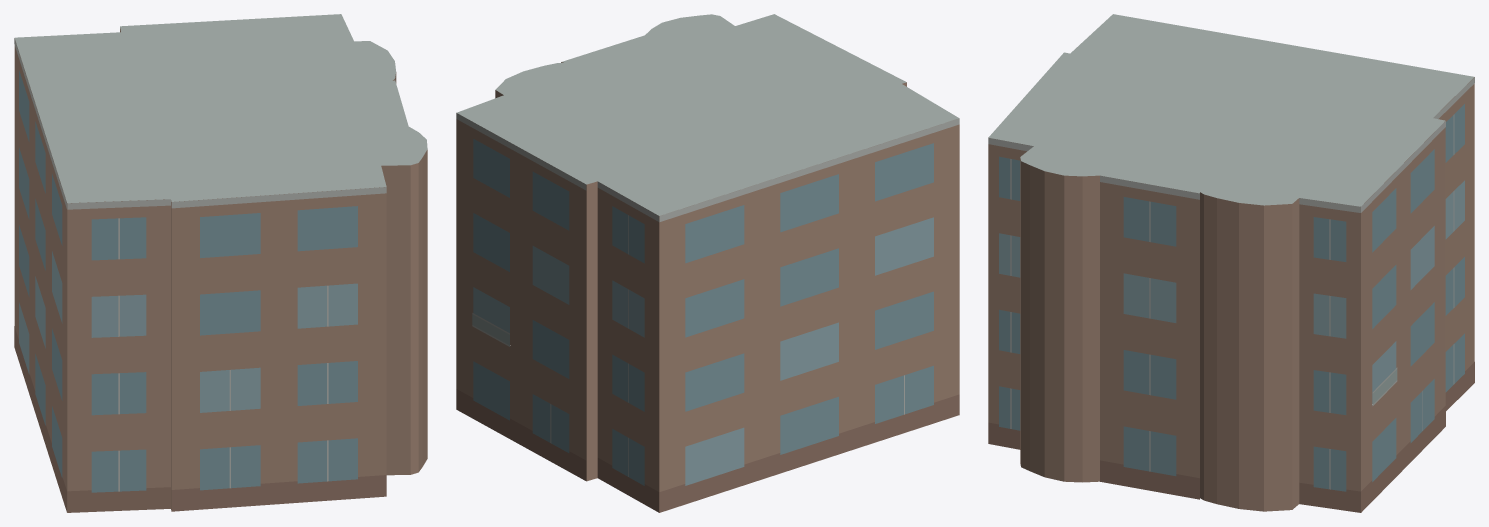
File: survey-upis-33021346.glb
3 views of the same model, side by side, from view 1: azimuth 30°, elevation 25°; view 2: azimuth 150°, elevation 25°; view 3: azimuth 270°, elevation 25° (orthographic). The views are drawn at different scales.
Visible parts, largest first — view 1: survey-upis-33021346.tmp; view 2: survey-upis-33021346.tmp; view 3: survey-upis-33021346.tmp.
Part boxes in pixels (box(x1,y1,x2,y2)): survey-upis-33021346.tmp: box(14, 14, 427, 512); survey-upis-33021346.tmp: box(456, 14, 959, 512); survey-upis-33021346.tmp: box(988, 14, 1474, 512).
Size of the model in its own units: 15.81 by 11.7 by 16.86.
